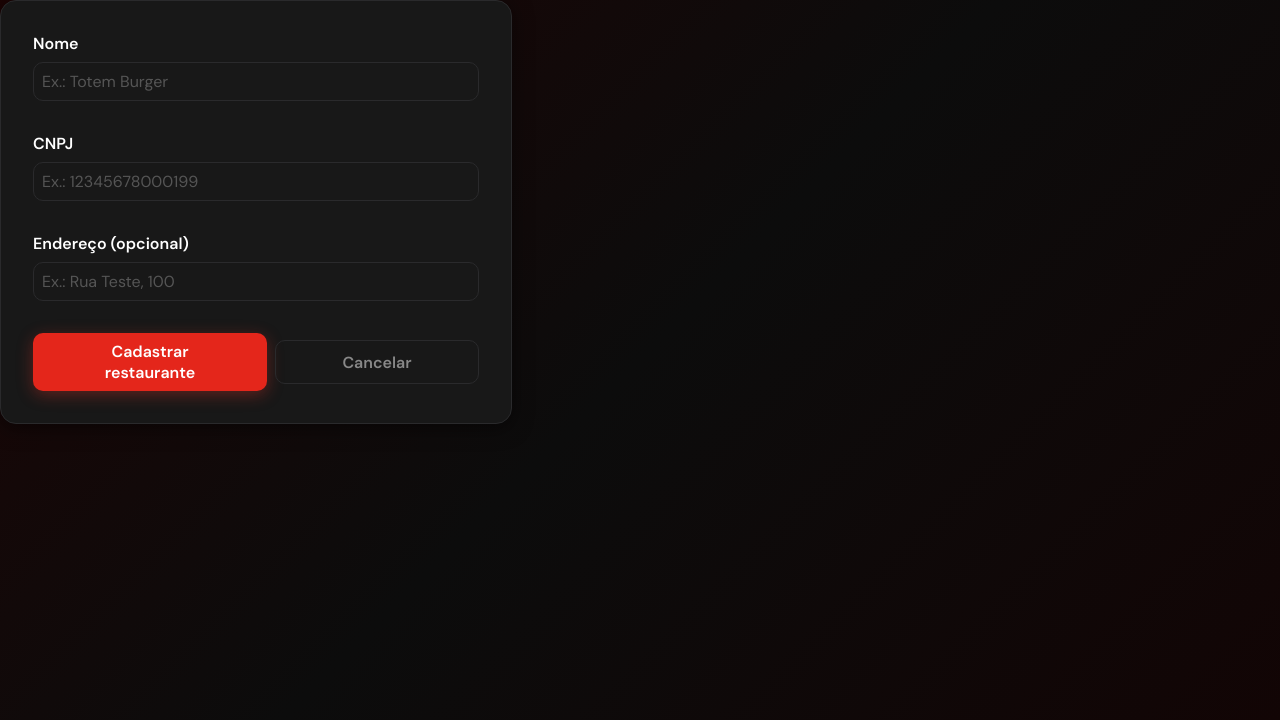
Scenario: RestauranteForm › corrigir o campo remove o erro inline (revalida ao digitar depois de já inválido)
Click the button "Cadastrar restaurante" at (150, 362), box [33,333,267,391]
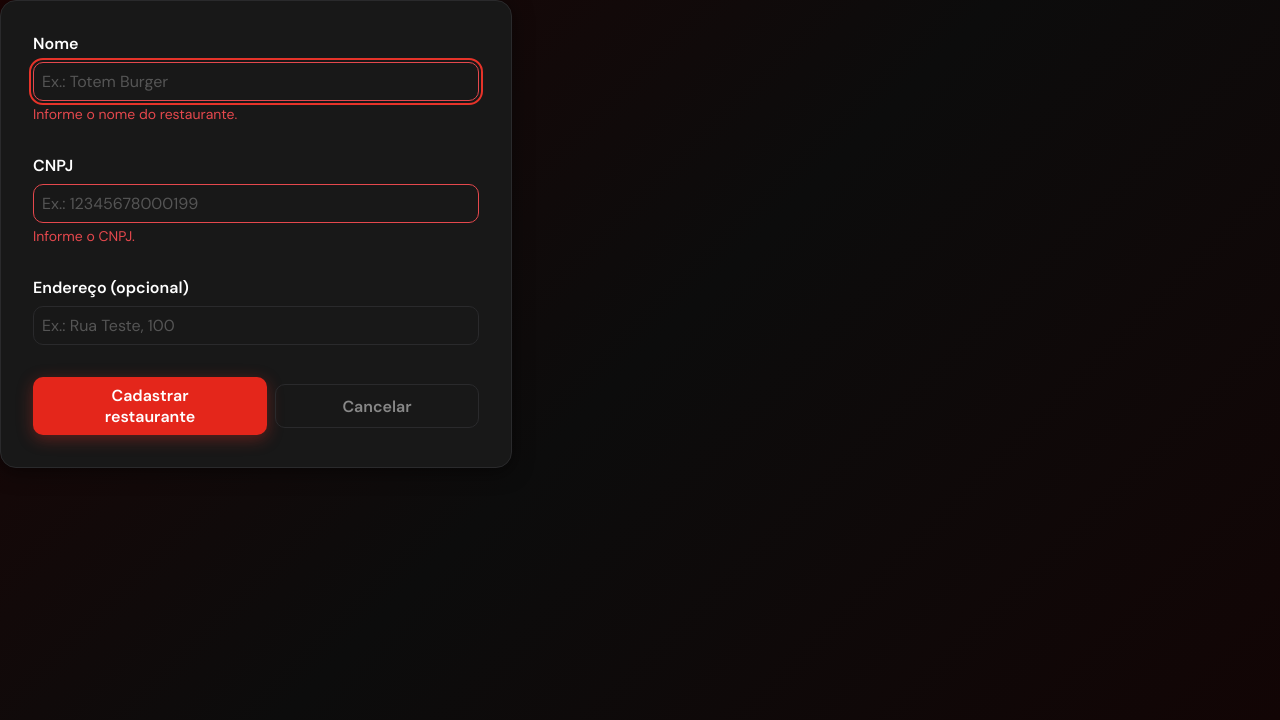
Expected: the text "Informe o nome do restaurante." is shown, [33,105,237,123]
Type "Totem Burger" into the field labelled "Nome" at (256, 82), box [33,62,479,101]
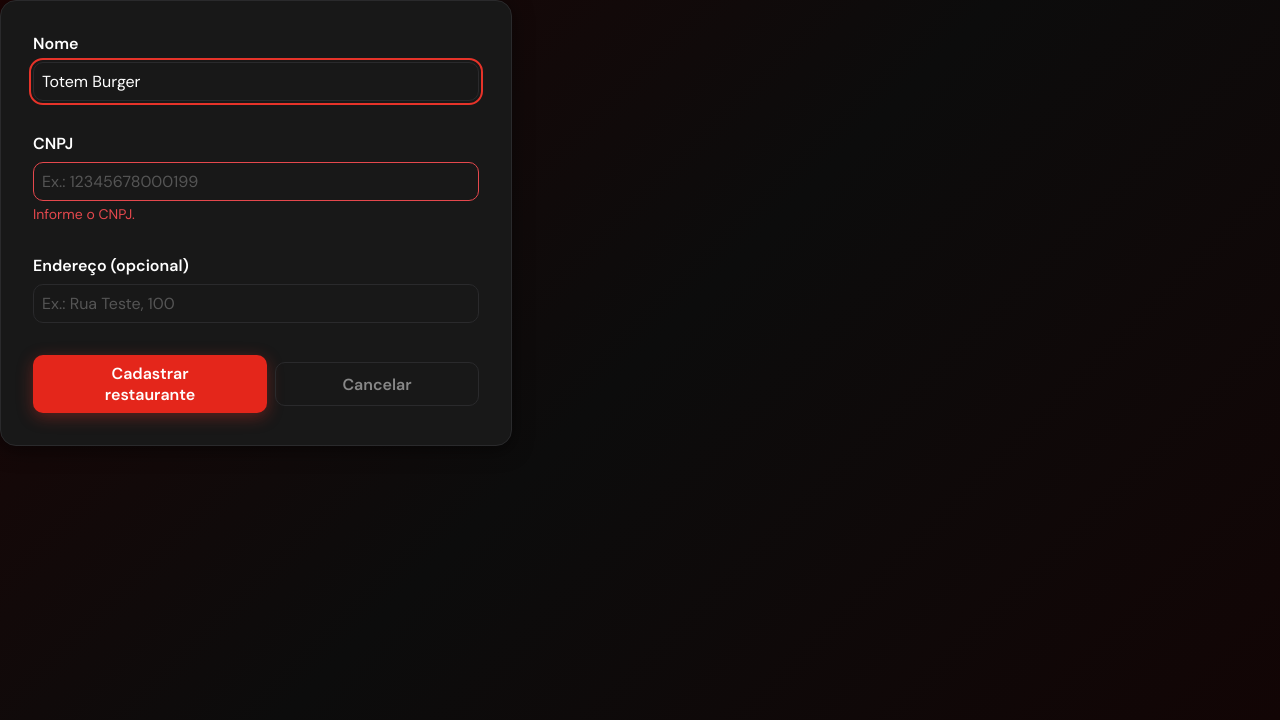
Expected: the text "Informe o nome do restaurante." is gone
